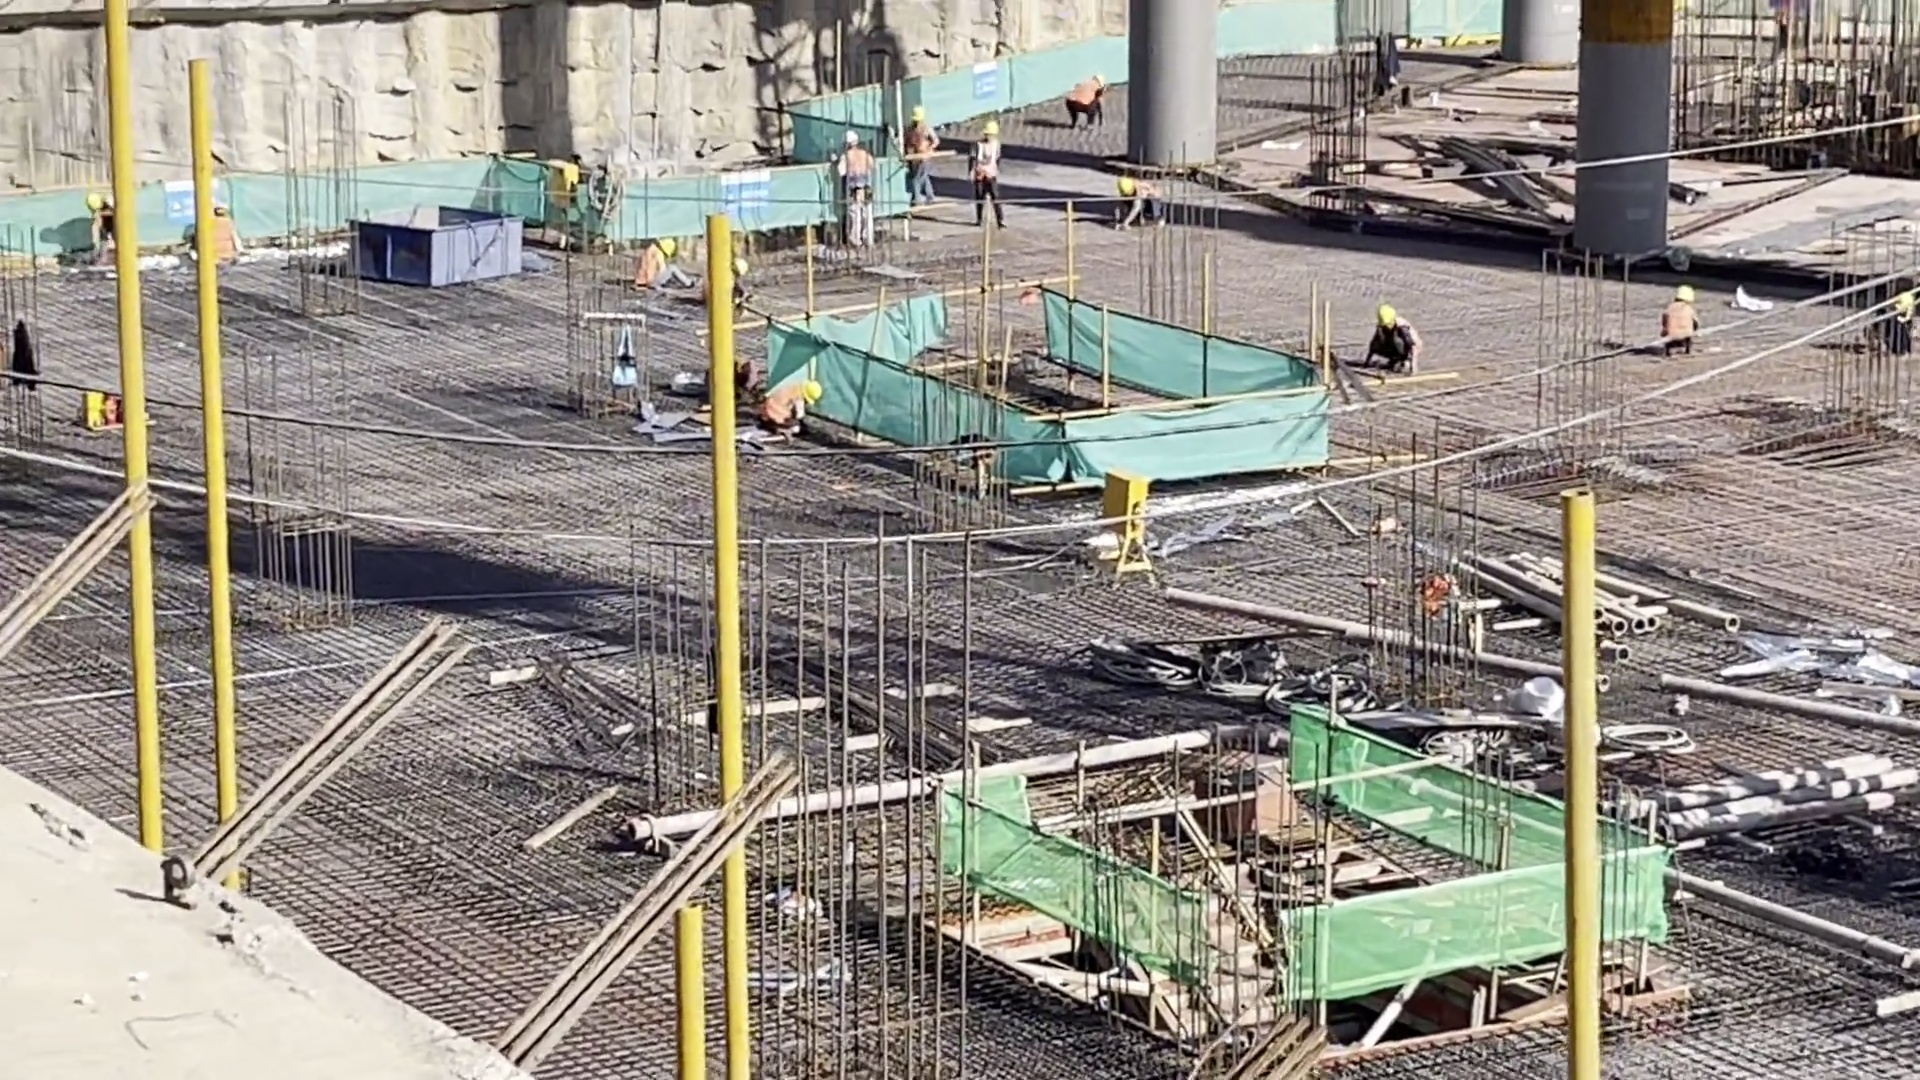ebox: (1104, 472, 1147, 570), (547, 157, 578, 210)
helmet: (803, 380, 820, 405), (1376, 304, 1395, 325), (657, 238, 674, 257), (1117, 176, 1133, 196), (1676, 285, 1694, 302), (733, 256, 748, 277), (87, 193, 101, 212), (910, 105, 926, 120), (982, 121, 997, 135)
hopper: (350, 204, 523, 288)
person: (833, 134, 878, 250), (1367, 308, 1420, 380), (632, 237, 692, 293), (756, 381, 824, 430), (970, 124, 1002, 227), (908, 107, 937, 204), (1116, 177, 1163, 229), (1663, 283, 1694, 362), (1069, 74, 1106, 134), (89, 193, 116, 269)
slogan: (720, 170, 774, 222), (167, 183, 198, 220), (975, 62, 998, 99)
vest: (763, 387, 806, 423), (905, 124, 936, 166), (631, 246, 661, 288), (1070, 79, 1101, 112), (1666, 304, 1693, 339), (846, 149, 869, 181), (975, 145, 994, 181)
